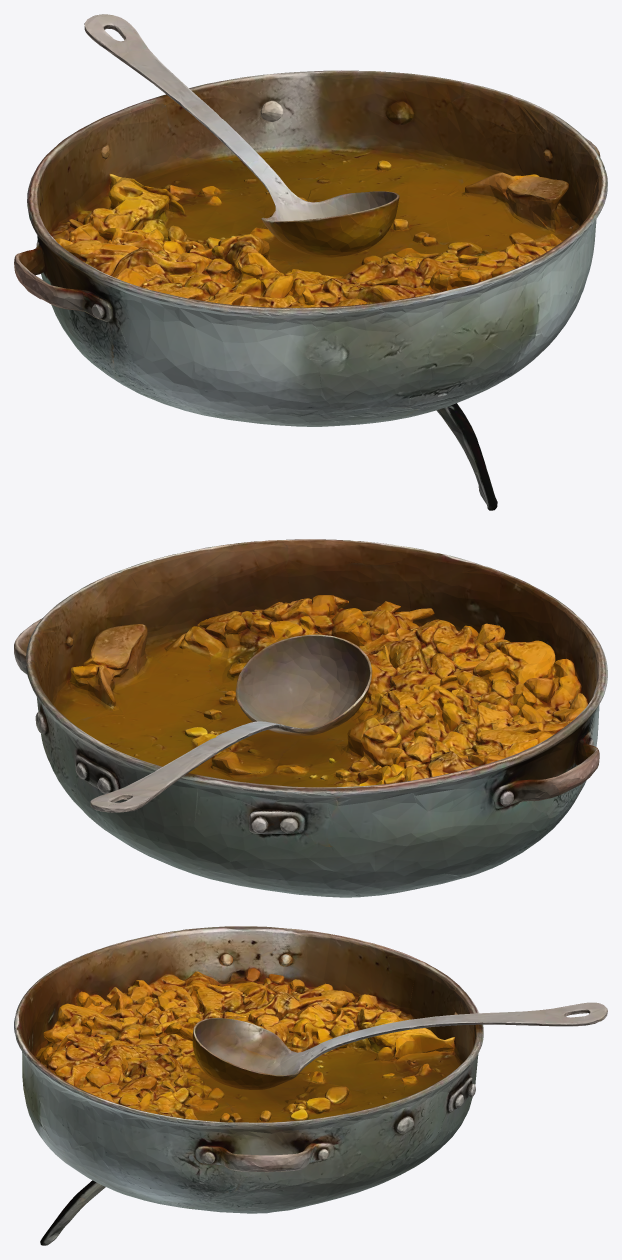
File: sancocho (1).glb
3 renders of one model, top to bottom at view 1: azimuth 30°, elevation 25°; view 2: azimuth 150°, elevation 25°; view 3: azimuth 270°, elevation 25°, orthographic. The views are drawn at different scales.
Visible parts, largest first — view 1: geometry_0; view 2: geometry_0; view 3: geometry_0.
Part boxes in pixels (box(x1,y1,x2,y2)): geometry_0: box(14, 14, 607, 510); geometry_0: box(14, 539, 607, 897); geometry_0: box(14, 926, 607, 1245).
Bounding box in the file's own units: 0.1982 × 0.0872 × 0.2199.
Materials: 1 (1 with a texture image).
